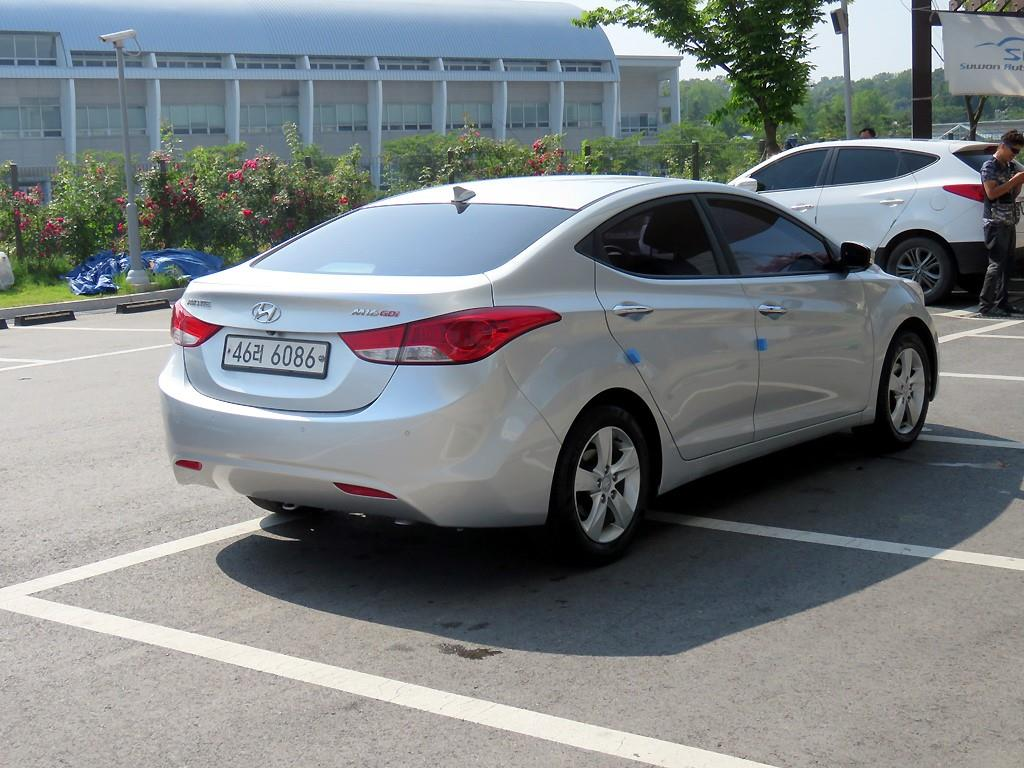plate: (222, 336, 328, 374)
